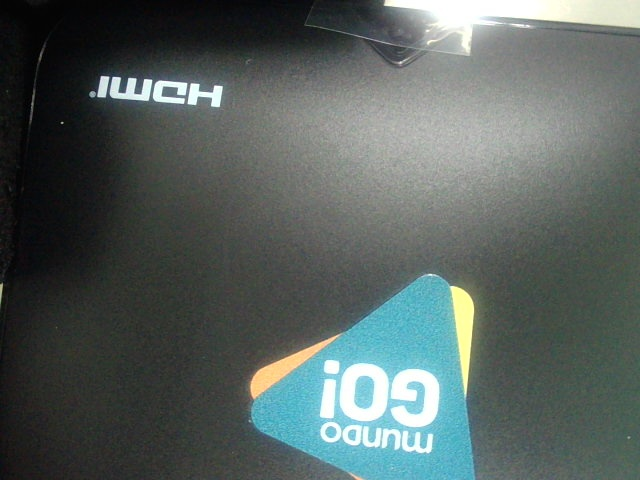AP_IPGMundoGO: (227, 262, 489, 479)
